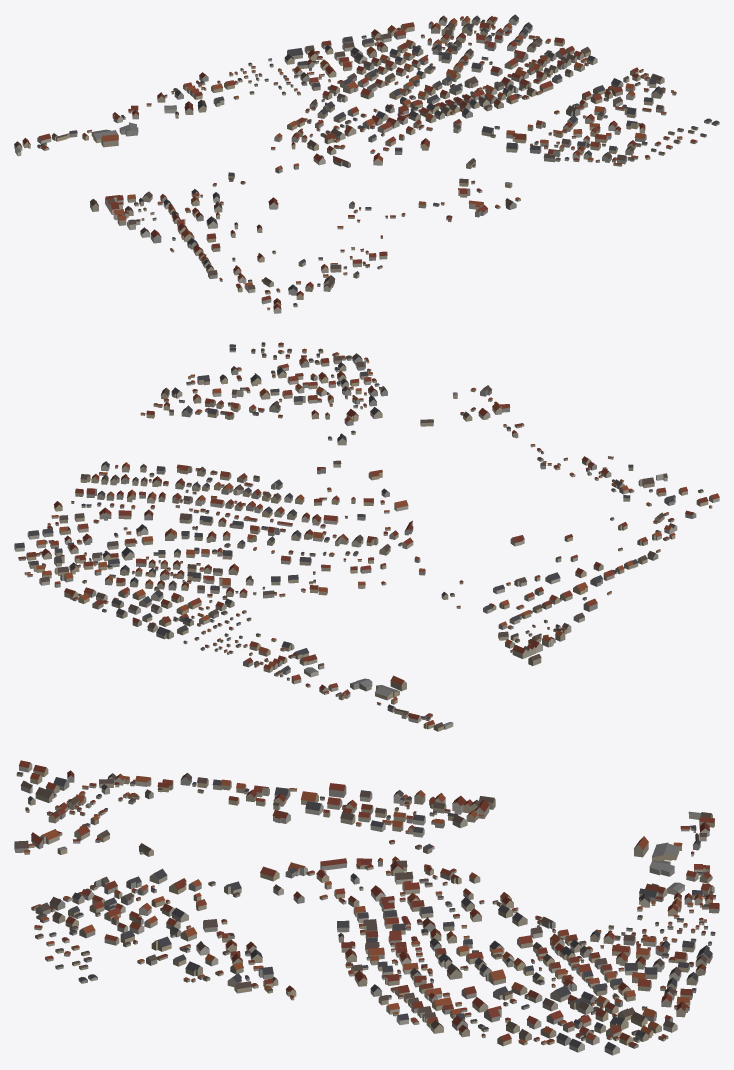
3 views of the same model, one above another, from view 1: azimuth 30°, elevation 25°; view 2: azimuth 150°, elevation 25°; view 3: azimuth 270°, elevation 25° (orthographic). The views are drawn at different scales.
Visible parts, largest first — view 1: buildings; view 2: buildings; view 3: buildings.
Boxes of the visible parts, x1,y1,x2,y2 form: buildings: (14, 14, 719, 313); buildings: (14, 342, 719, 731); buildings: (14, 760, 719, 1055).
Bounding box in the file's own units: 814 × 165 × 813.
